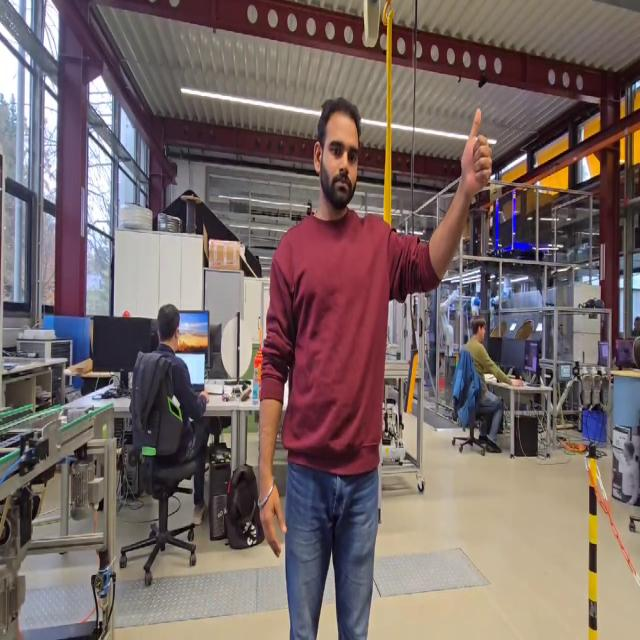thumbs_up: (456, 103, 496, 205)
